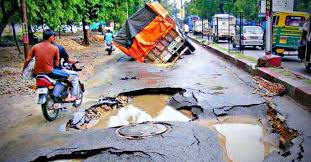pothole: (210, 100, 311, 156), (85, 87, 203, 128), (32, 146, 167, 162)
